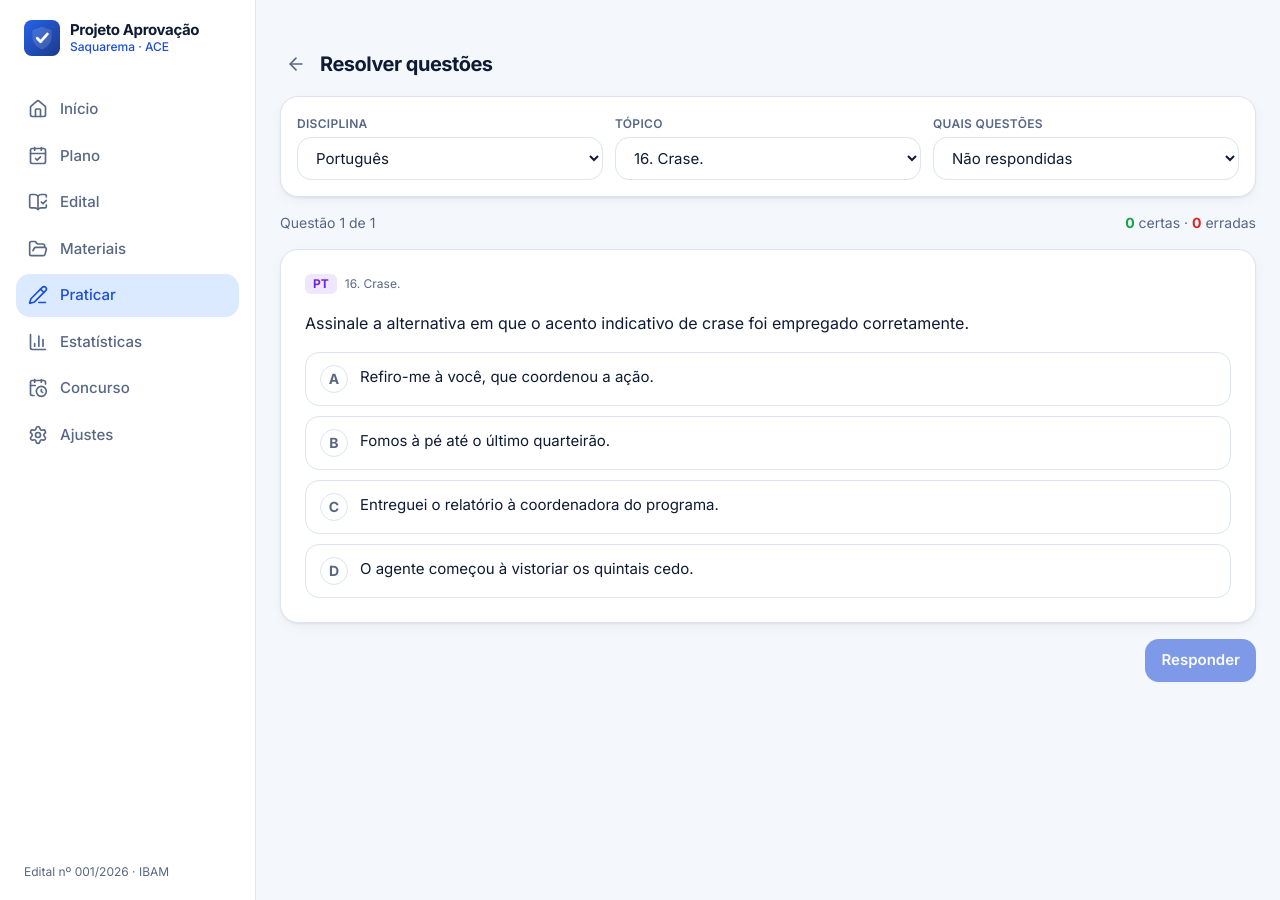
resolver questões › corrige na hora, pede o motivo do erro e manda para o caderno
Later steps or results of the test are not shown.
Click the radio button labelled "A Refiro-me à você, que coordenou a ação.": coordinates (507, 376) [305,352,1231,406]
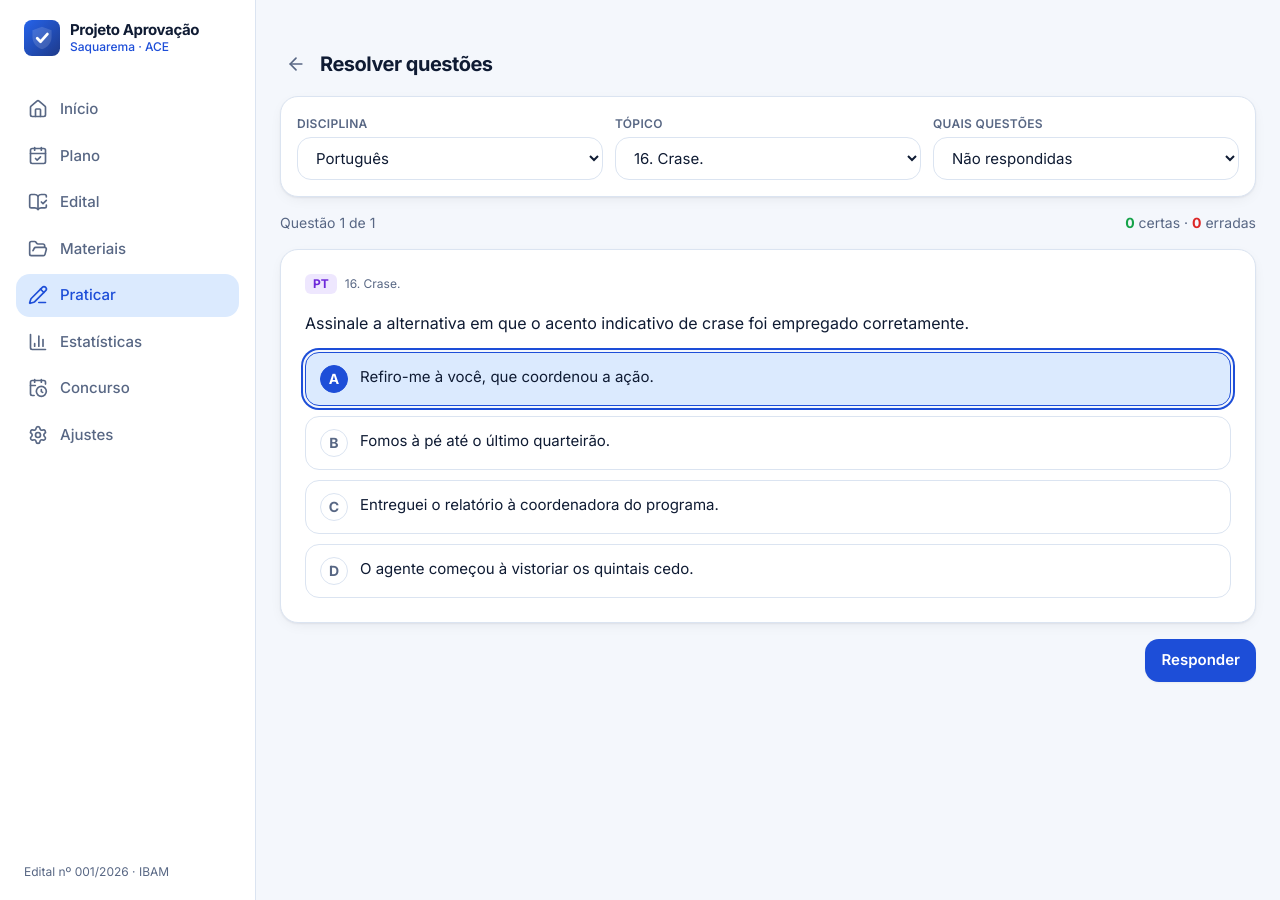
Click the button "Responder": coordinates (1201, 660) [1145,639,1256,682]
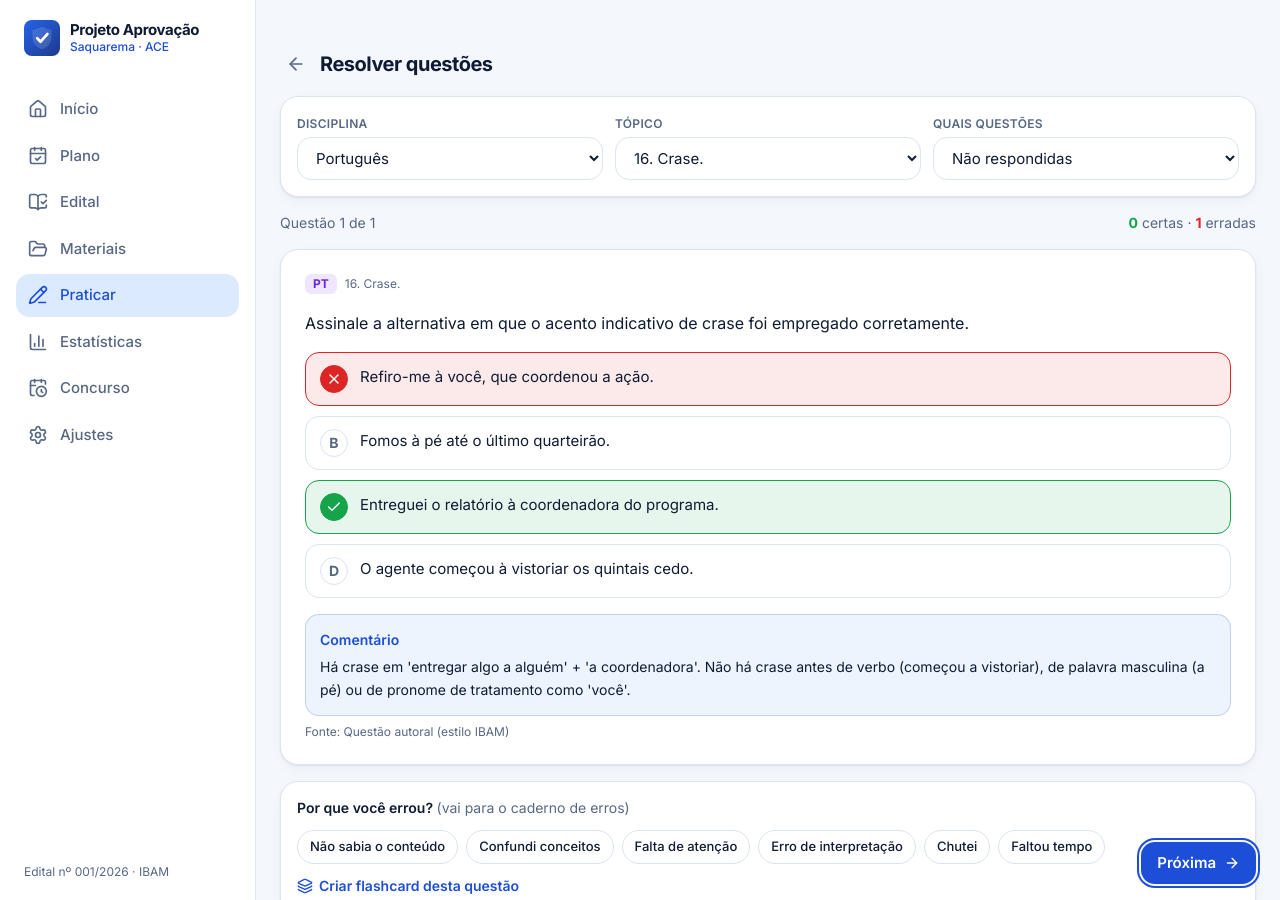
Now the text "Comentário" is shown, box [320,631,399,648]
Now the text "Por que você errou? (vai para o caderno de erros)" is shown, box [297,799,630,816]
